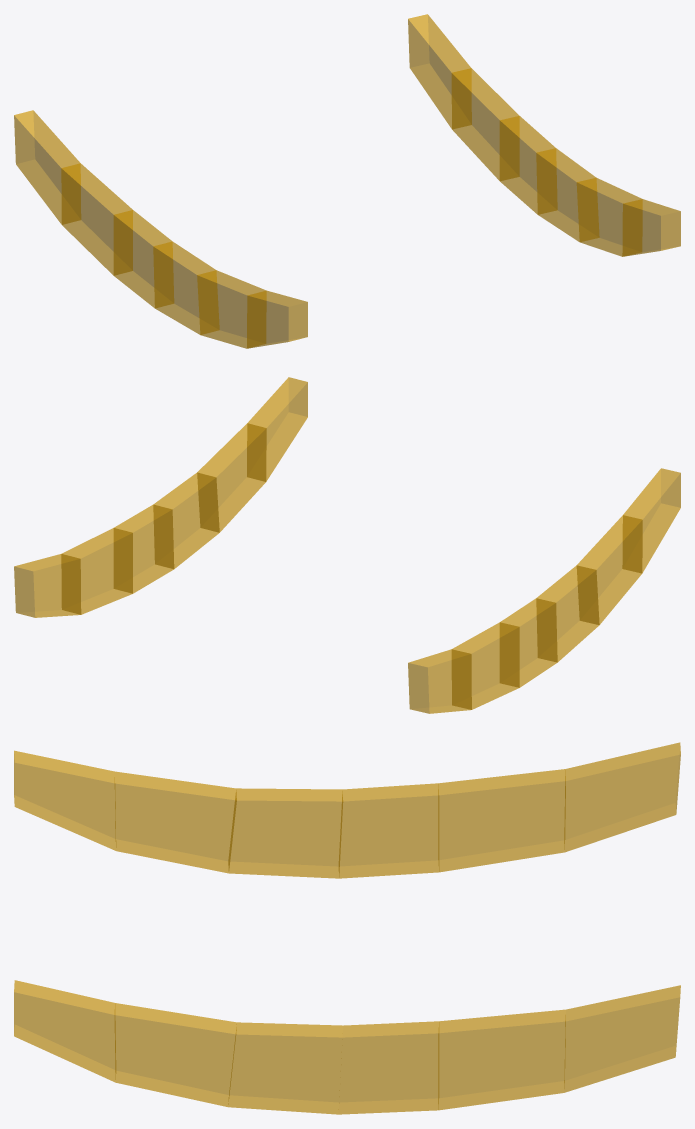
File: SM_Veh_Ship_S_Middle_03_Collision.fbx
3 renders of one model, top to bottom at view 1: azimuth 30°, elevation 25°; view 2: azimuth 150°, elevation 25°; view 3: azimuth 270°, elevation 25°, orthographic. The views are drawn at different scales.
Parts seen in each view (by area): view 1: SM_Veh_Ship_S_Middle_03_Collision; view 2: SM_Veh_Ship_S_Middle_03_Collision; view 3: SM_Veh_Ship_S_Middle_03_Collision.
Boxes of the visible parts, box(x1,y1,x2,y2) form: SM_Veh_Ship_S_Middle_03_Collision: box(14, 14, 680, 348); SM_Veh_Ship_S_Middle_03_Collision: box(14, 377, 680, 713); SM_Veh_Ship_S_Middle_03_Collision: box(14, 742, 680, 1114).
Bounding box in the file's own units: 527 × 116 × 583.
